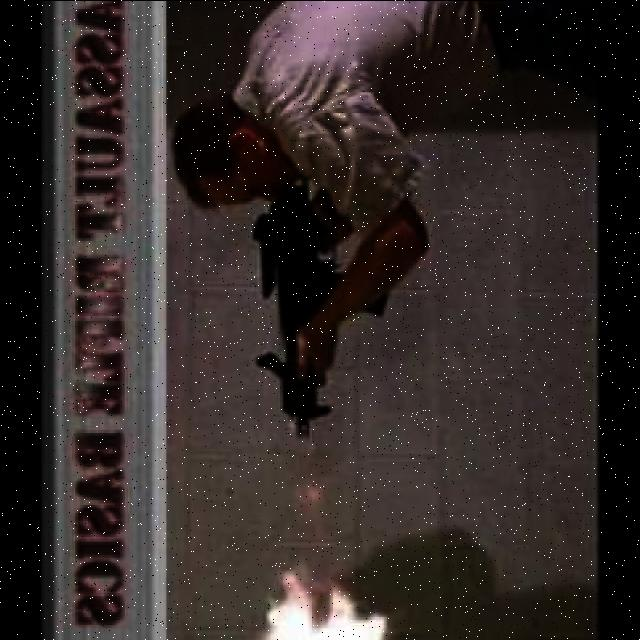Rifle: (250, 186, 384, 437)
